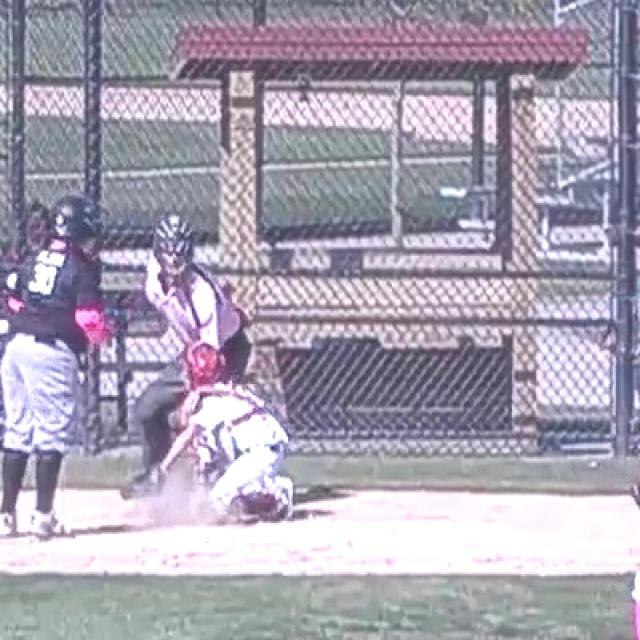baseball: (7, 274, 17, 288)
